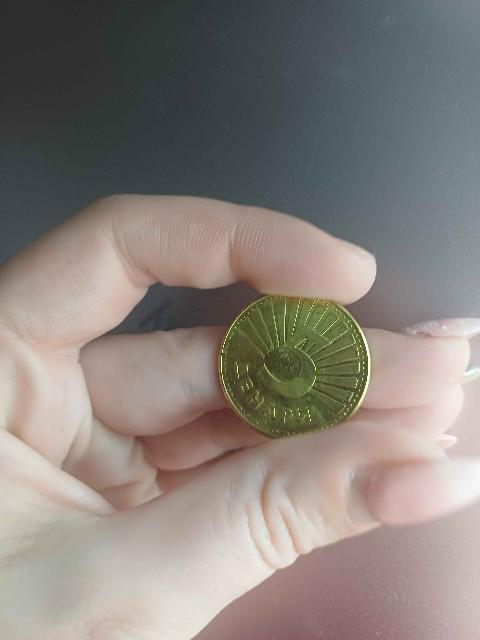5_coin: (220, 296, 369, 437)
